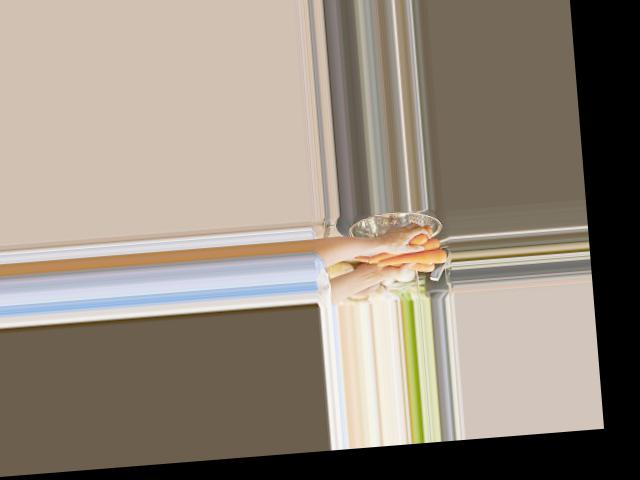carrot: (364, 240, 442, 266)
